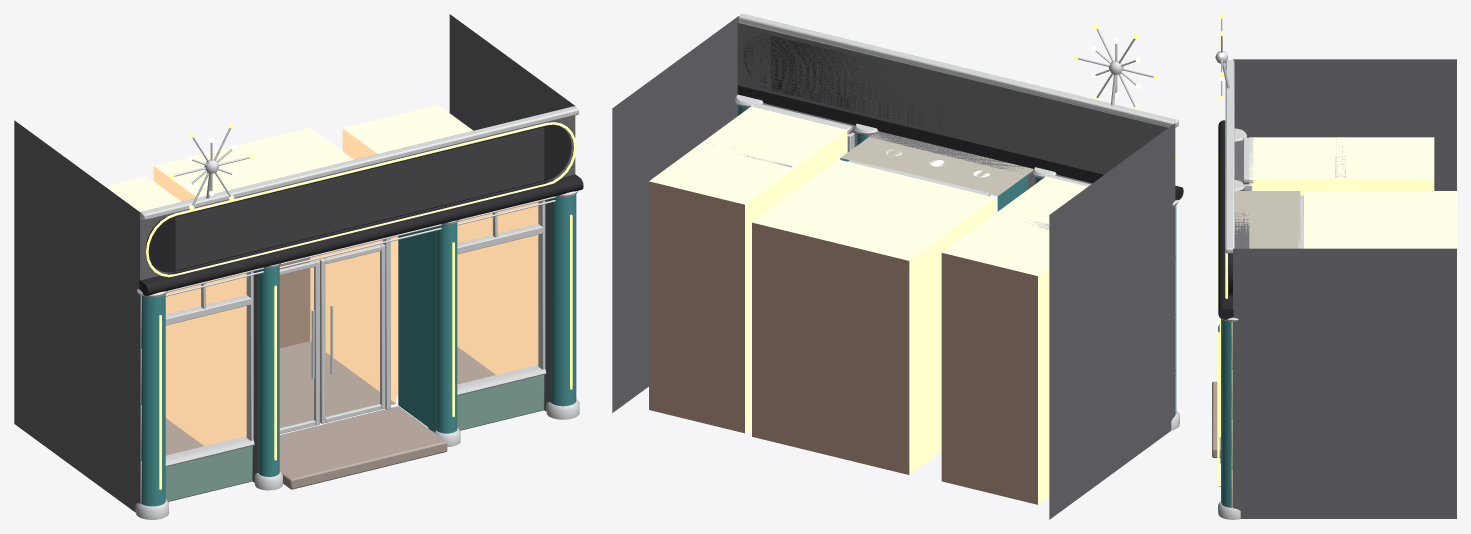
File: retro_inn_6a.glb
3 renders of one model, left to right at view 1: azimuth 30°, elevation 25°; view 2: azimuth 150°, elevation 25°; view 3: azimuth 270°, elevation 25°, orthographic. The views are drawn at different scales.
Visible parts, largest first — view 1: retro_inn_6a; view 2: retro_inn_6a; view 3: retro_inn_6a.
Boxes of the visible parts, bbox=[...] form: retro_inn_6a: bbox=[14, 14, 583, 519]; retro_inn_6a: bbox=[612, 14, 1183, 519]; retro_inn_6a: bbox=[1212, 14, 1456, 519].
Bounding box in the file's own units: 6.06 × 4.96 × 3.28.
